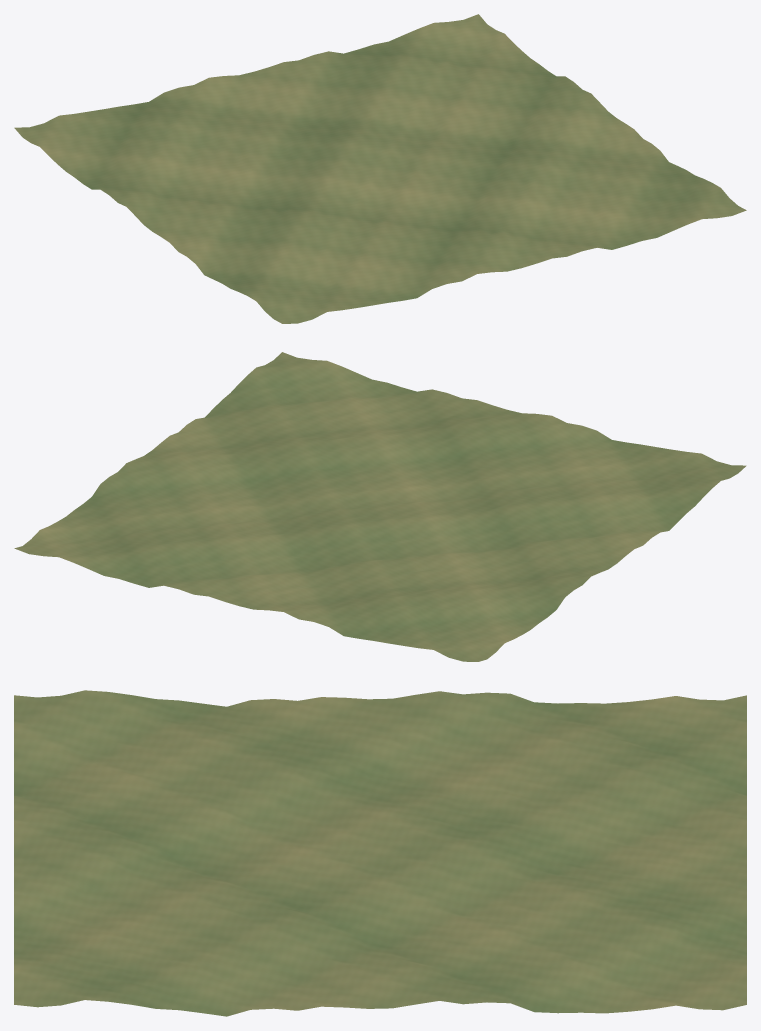
The model's file is MapBG_01_葫芦山脚宣纸底.glb.
The picture shows the model from 3 angles, top to bottom: view 1: azimuth 30°, elevation 25°; view 2: azimuth 150°, elevation 25°; view 3: azimuth 270°, elevation 25°; orthographic projection. The views are drawn at different scales.
Parts seen in each view (by area): view 1: TerrainTile; view 2: TerrainTile; view 3: TerrainTile.
Part boxes in pixels (x1,y1,x2,y2): TerrainTile: [14, 14, 746, 323]; TerrainTile: [14, 352, 746, 661]; TerrainTile: [14, 690, 746, 1016].
Size of the model in its own units: 8 by 0.2002 by 8.
Materials: 1 (1 with a texture image).
